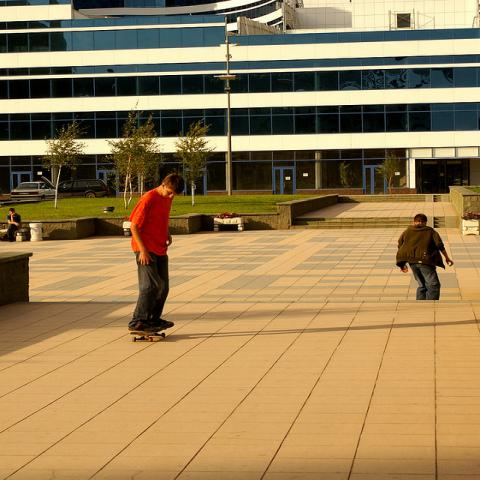car: (57, 180, 108, 198), (10, 182, 56, 201)
